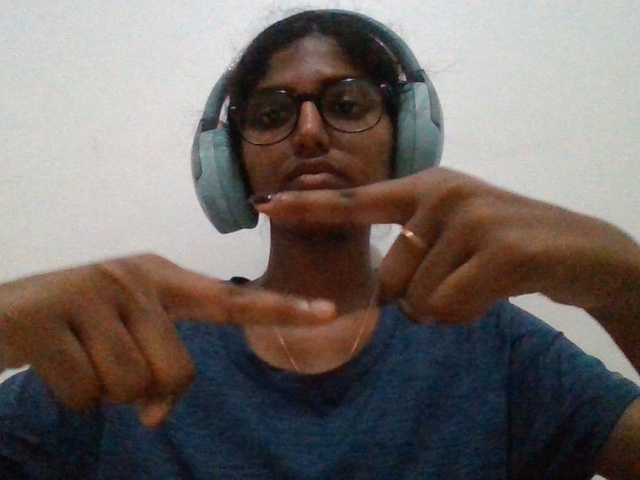Sign: (5, 170, 628, 435)
